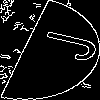J: (24, 25, 100, 64)
